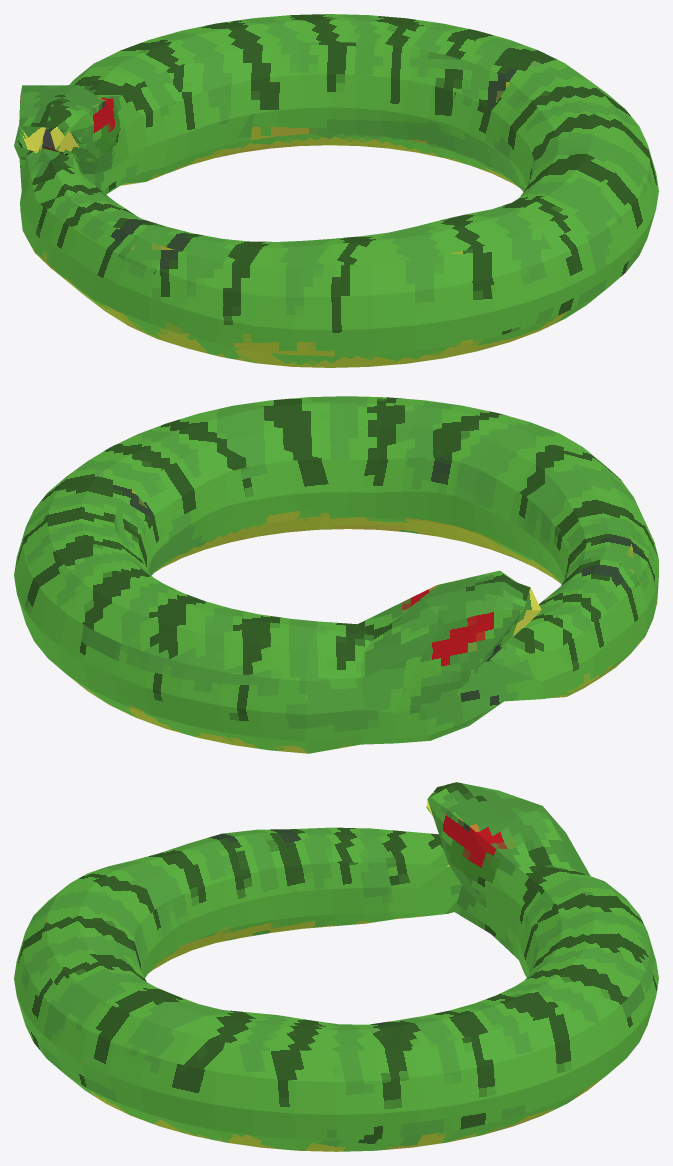
Rendered from ouroboros.glb.
The picture shows the model from 3 angles, top to bottom: view 1: azimuth 30°, elevation 25°; view 2: azimuth 150°, elevation 25°; view 3: azimuth 270°, elevation 25°; orthographic projection. The views are drawn at different scales.
Parts seen in each view (by area): view 1: Torus; view 2: Torus; view 3: Torus.
Part boxes in pixels (x1,y1,x2,y2): Torus: (14, 14, 658, 367); Torus: (14, 396, 658, 753); Torus: (14, 782, 658, 1151).
Size of the model in its own units: 3.78 by 1.02 by 3.94.
Materials: 1 (1 with a texture image).
